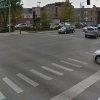Crosswalk: (5, 55, 85, 96)
